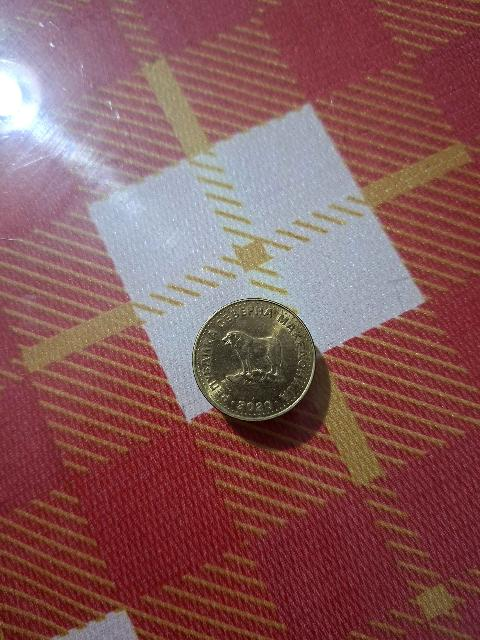coin: (193, 299, 315, 420)
